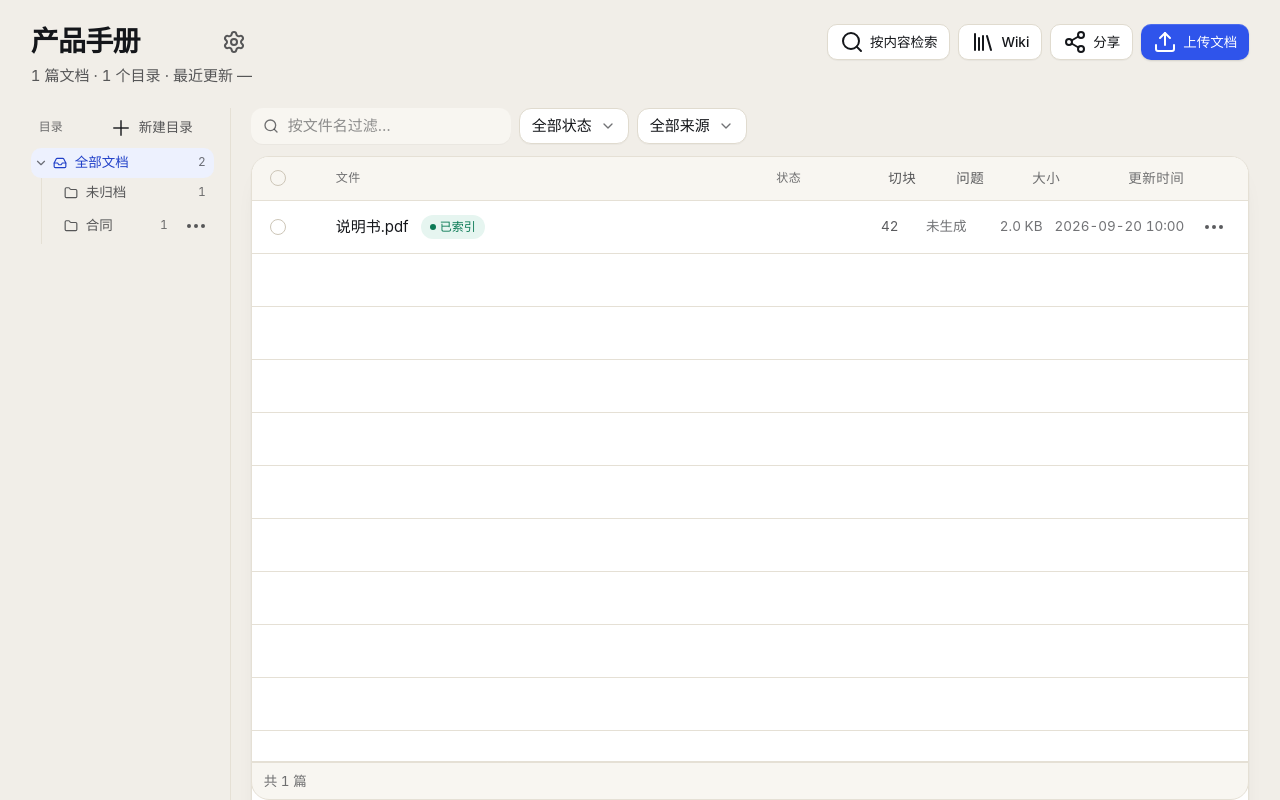
重新解析 › 行菜单里与「重新摄入」并列，两条都在（是两件事，不是同一个动作的两个名字）
This screenshot has width=1280, height=800.
Expected: the text "说明书.pdf" is shown, [336,215,409,238]
Step 1. Click the button named "说明书.pdf 的操作" → (1214, 226), box [1196,208,1232,244]
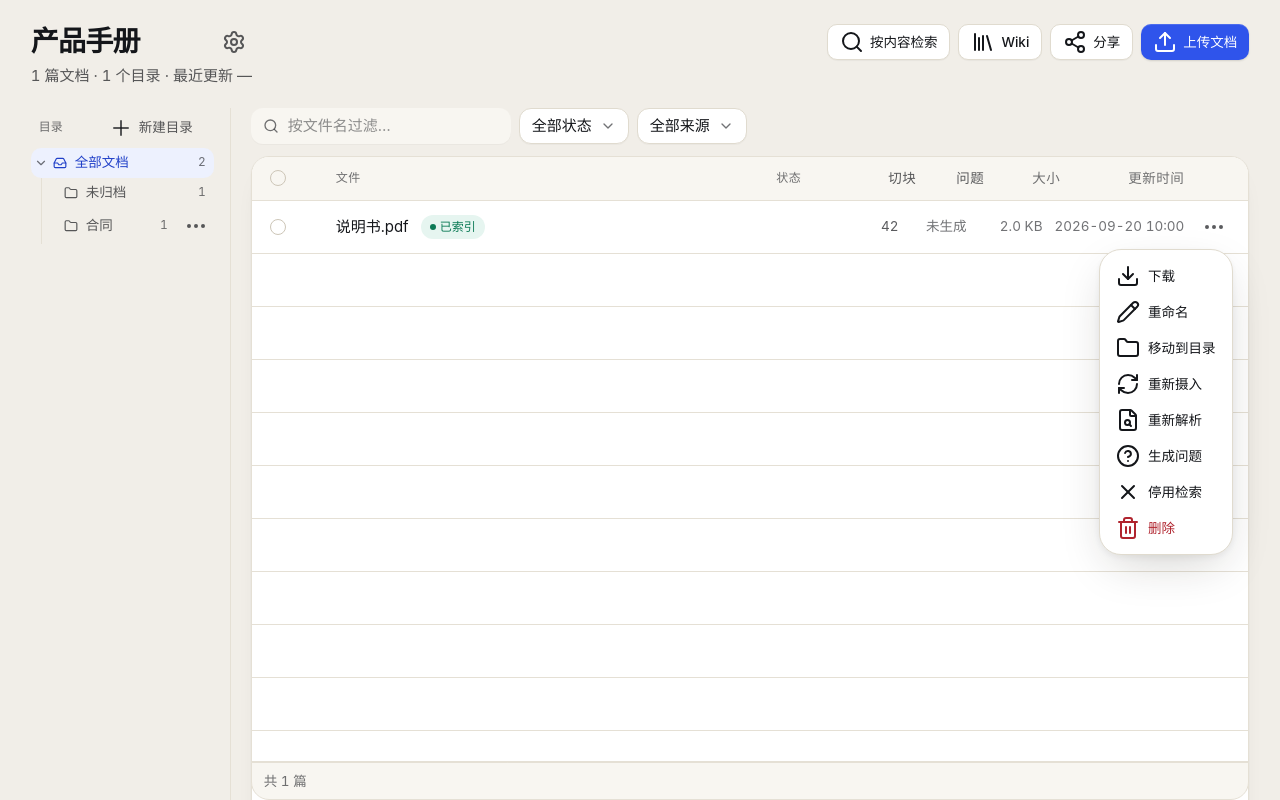
Expected: the menu item "重新摄入" is shown, [1116,372,1202,396]
Expected: the menu item "重新解析" is shown, [1116,408,1202,432]
